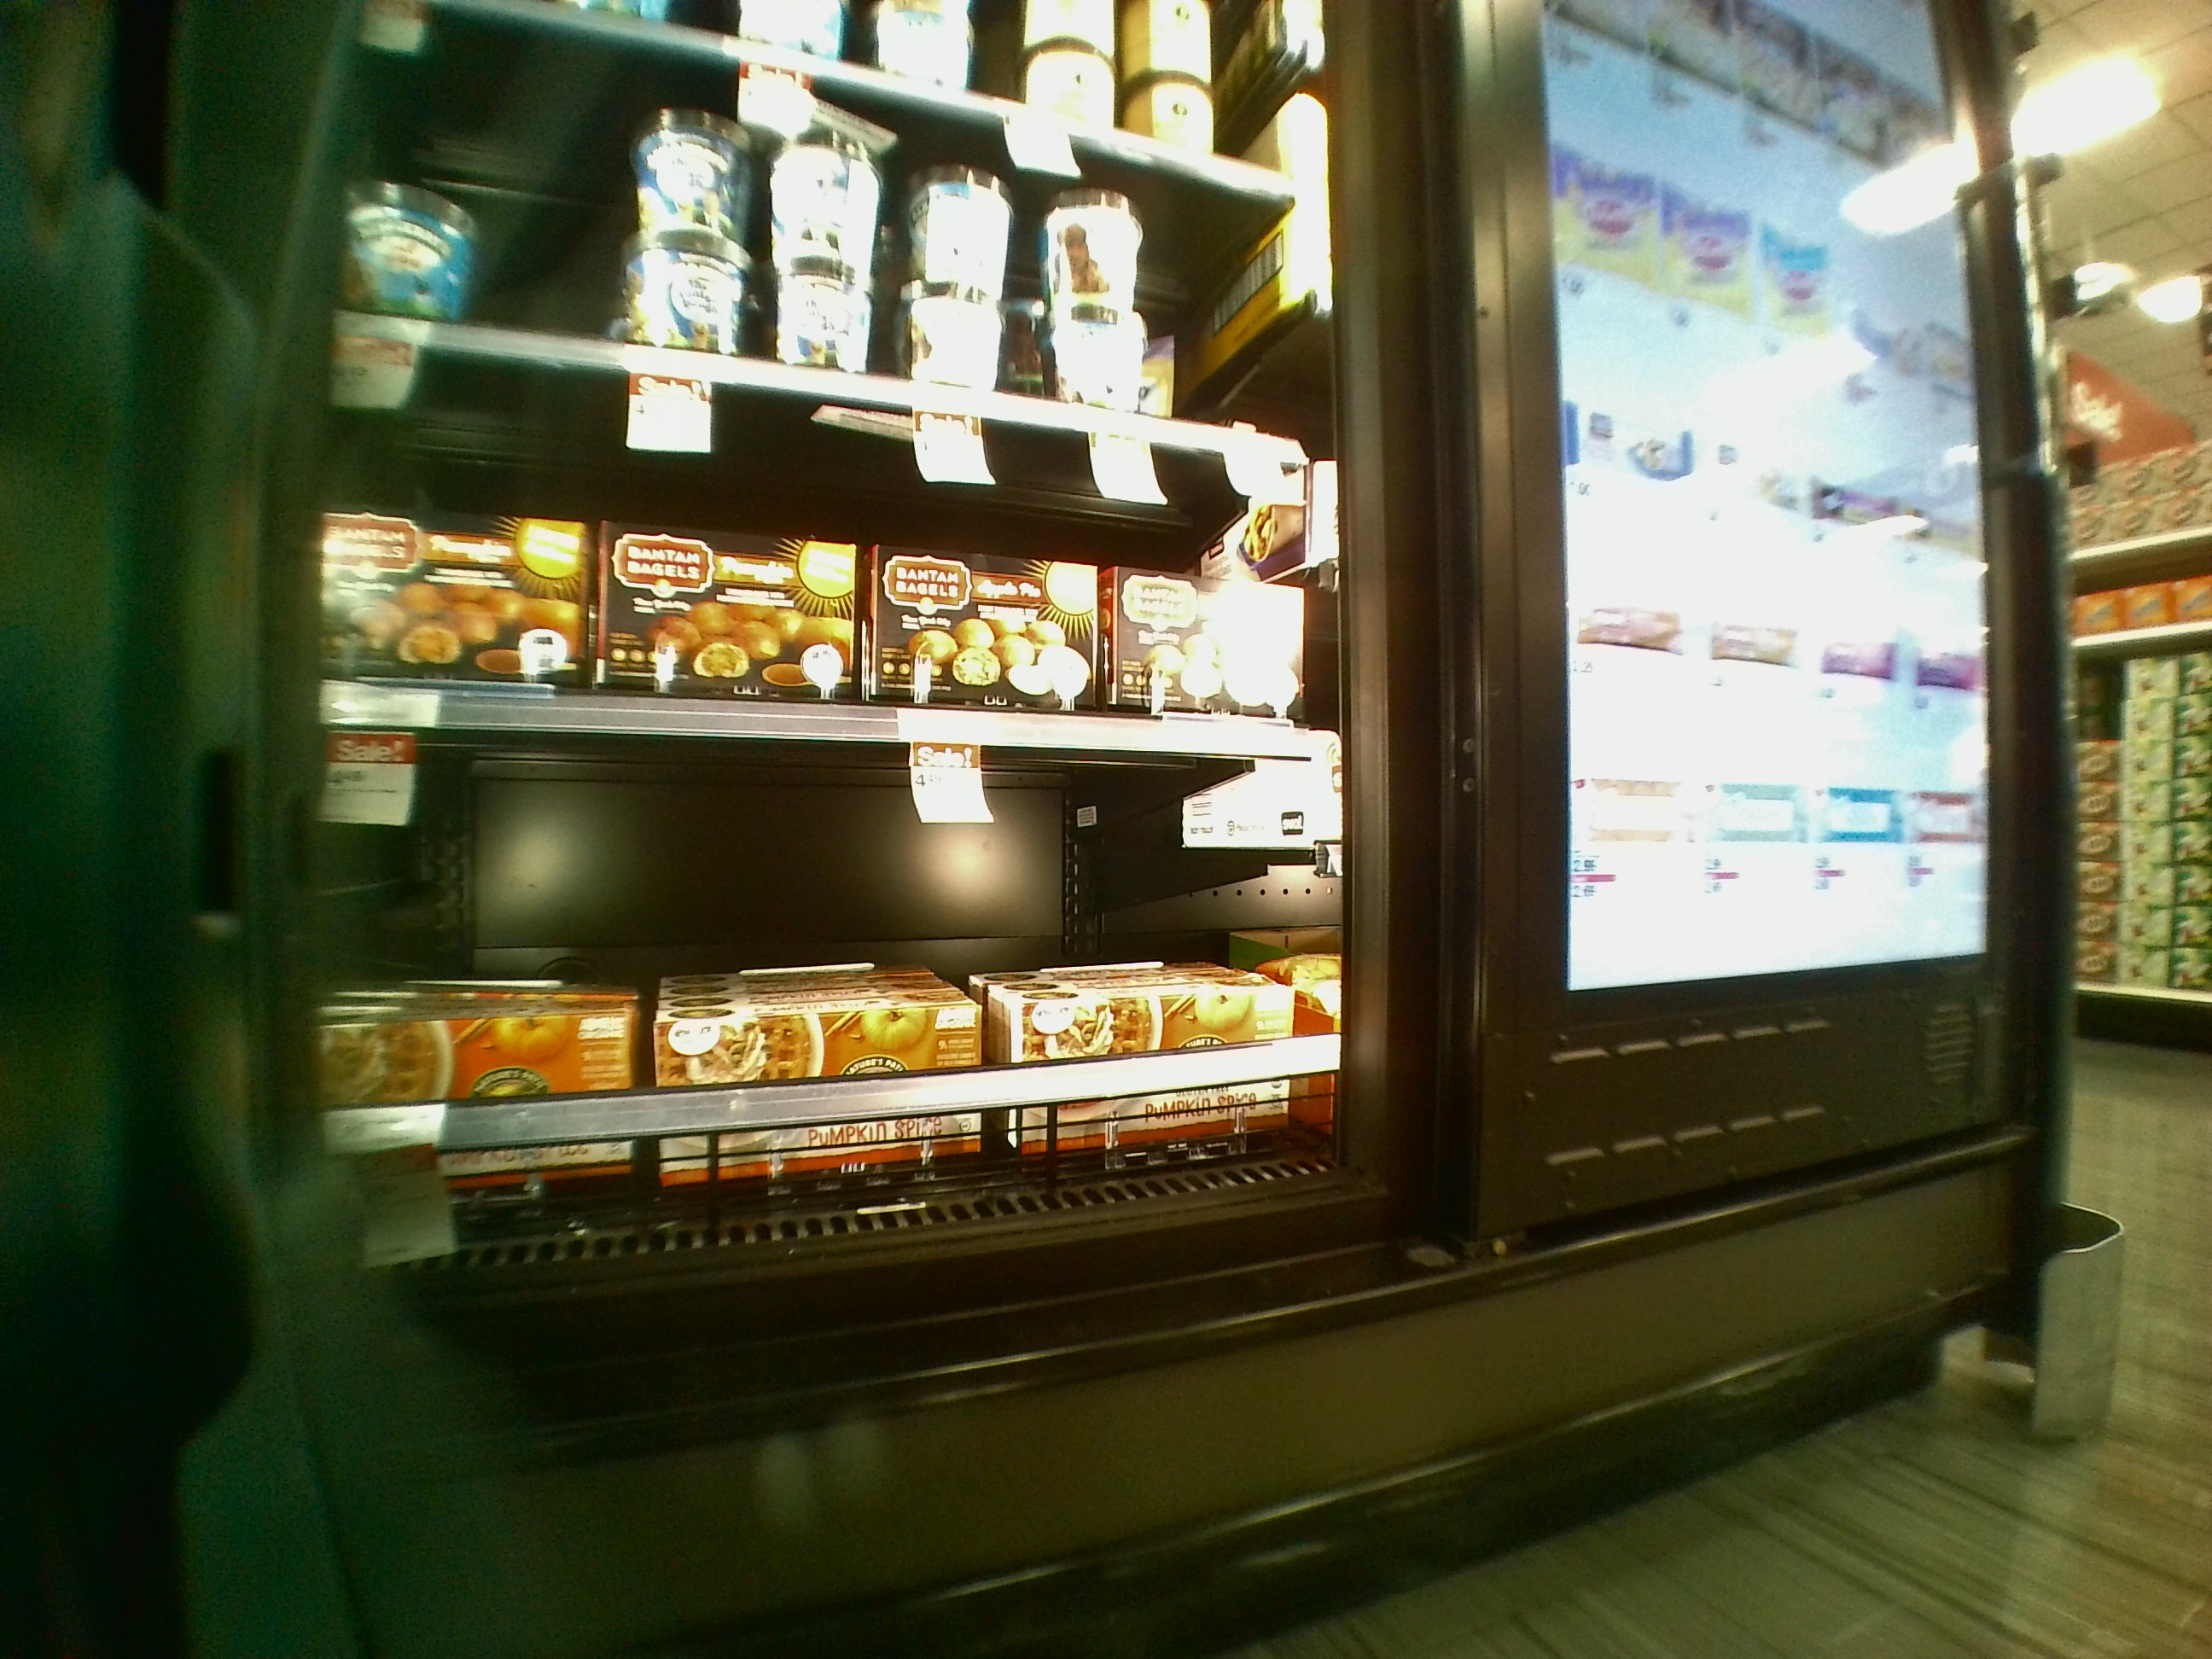shelf: (279, 718, 1393, 1225), (296, 338, 1353, 758)
